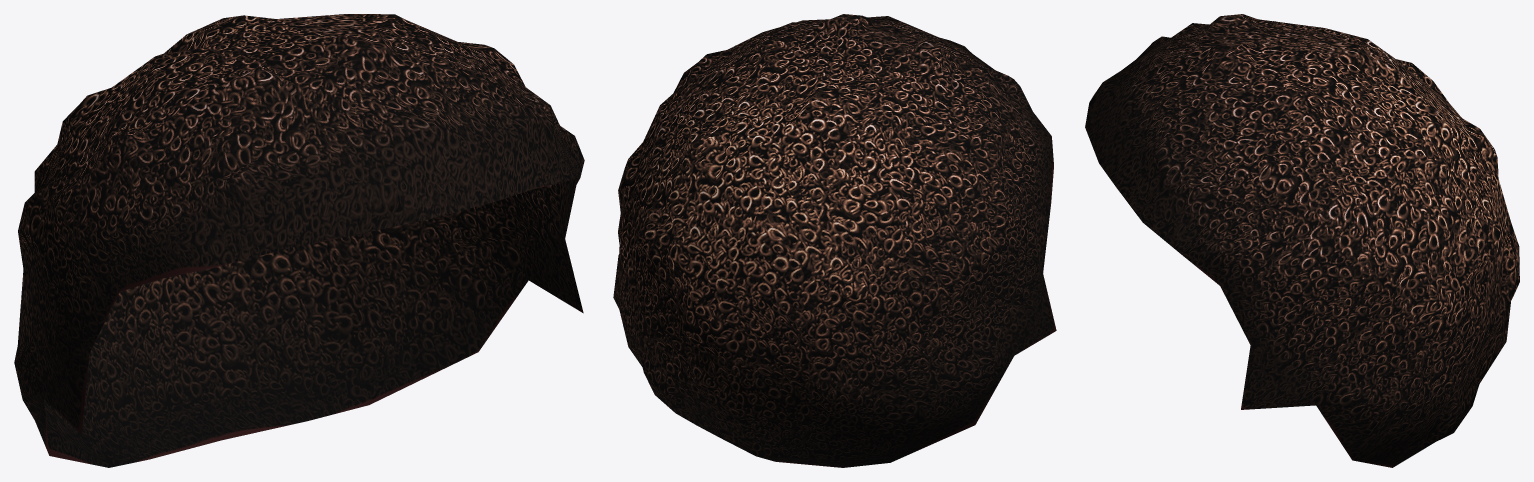
The model's file is End_5.fbx.
The picture shows the model from 3 angles, left to right: view 1: azimuth 30°, elevation 25°; view 2: azimuth 150°, elevation 25°; view 3: azimuth 270°, elevation 25°; orthographic projection. The views are drawn at different scales.
Visible parts, largest first — view 1: Baby_A_HairD1; view 2: Baby_A_HairD1; view 3: Baby_A_HairD1.
Boxes of the visible parts, left/top/right/bottom form: Baby_A_HairD1: left=14, top=14, right=584, bottom=467; Baby_A_HairD1: left=613, top=14, right=1056, bottom=467; Baby_A_HairD1: left=1085, top=14, right=1519, bottom=467.
Size of the model in its own units: 33.03 by 30.34 by 30.48.
